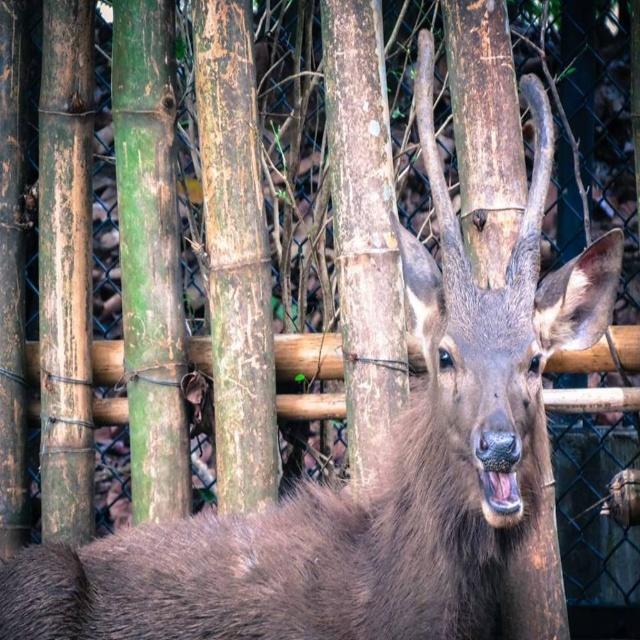Deer: (0, 32, 623, 639)
